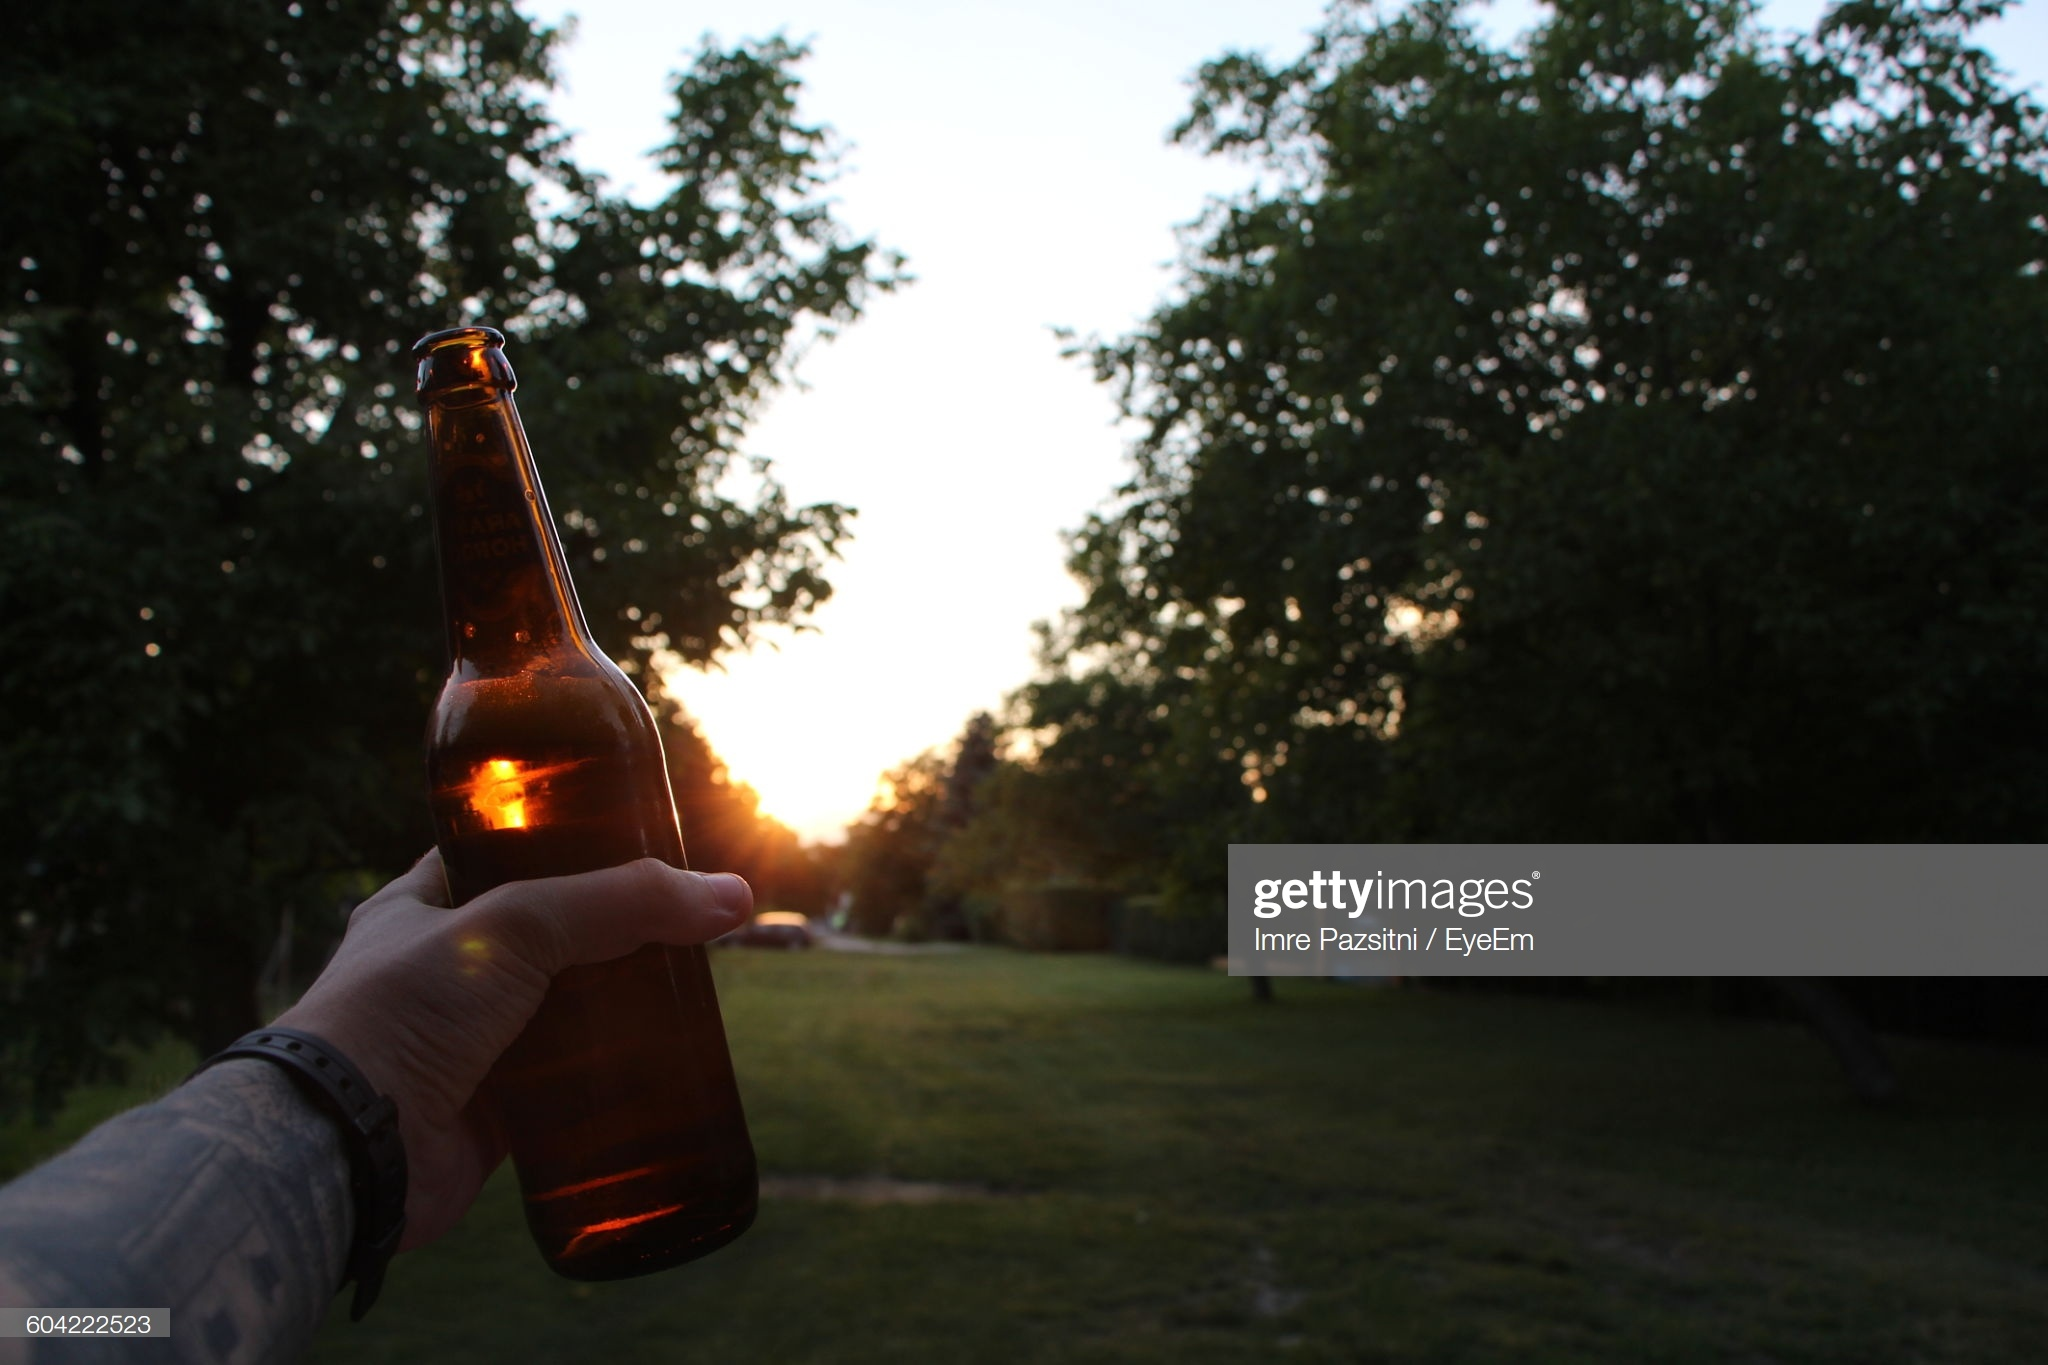beerBottle: (405, 311, 760, 1248)
